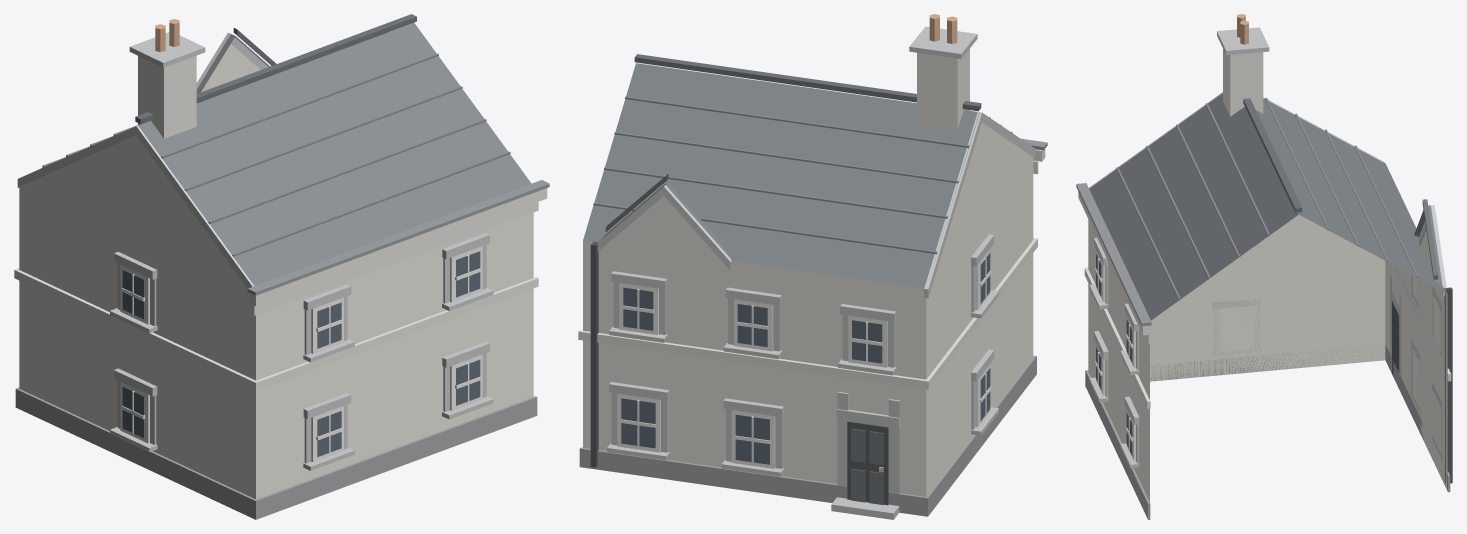
3 views of the same model, side by side, from view 1: azimuth 30°, elevation 25°; view 2: azimuth 150°, elevation 25°; view 3: azimuth 270°, elevation 25° (orthographic). The views are drawn at different scales.
Visible parts, largest first — view 1: harl_cream, slate, stone_band, string, plinth, frame, slate_lt, chim_render, lead, slate_dk, window_glass_009, window_glass_008 (+4 smaller); view 2: harl_cream, slate, stone_band, plinth, frame, string, slate_lt, chim_render, slate_dk, pipe, door_dark_p, door_dark (+6 smaller); view 3: harl_cream, slate, stone_band, plinth, slate_lt, frame, string, chim_render, lead, slate_dk, pipe, door_dark.
Boxes of the visible parts, x1,y1,x2,y2 form: harl_cream: (19, 44, 533, 499); slate: (138, 23, 531, 285); stone_band: (17, 32, 493, 470); string: (14, 188, 547, 390); plinth: (15, 387, 537, 519); frame: (120, 246, 482, 462); slate_lt: (42, 32, 510, 256); chim_render: (138, 55, 196, 138); lead: (247, 180, 549, 295); slate_dk: (135, 14, 416, 124); window_glass_009: (317, 302, 341, 348); window_glass_008: (317, 411, 341, 457); harl_cream: (583, 123, 1033, 496); slate: (583, 63, 979, 288); stone_band: (597, 26, 1035, 519); plinth: (579, 355, 1036, 516); frame: (617, 249, 991, 468); string: (578, 149, 1045, 389); slate_lt: (593, 96, 1023, 253); chim_render: (917, 49, 969, 129); slate_dk: (605, 54, 981, 231); pipe: (590, 241, 598, 467); door_dark_p: (851, 428, 883, 504); door_dark: (847, 421, 888, 505); harl_cream: (1088, 214, 1447, 501); slate: (1089, 93, 1447, 320); stone_band: (1089, 27, 1446, 468); plinth: (1085, 344, 1450, 519); slate_lt: (1116, 98, 1418, 299); frame: (1095, 251, 1439, 461); string: (1078, 191, 1451, 408); chim_render: (1223, 49, 1263, 116); lead: (1076, 183, 1151, 326); slate_dk: (1243, 98, 1438, 279); pipe: (1444, 287, 1452, 483); door_dark: (1392, 301, 1399, 375).
Size of the model in its own units: 9.85 by 10.26 by 9.51.
